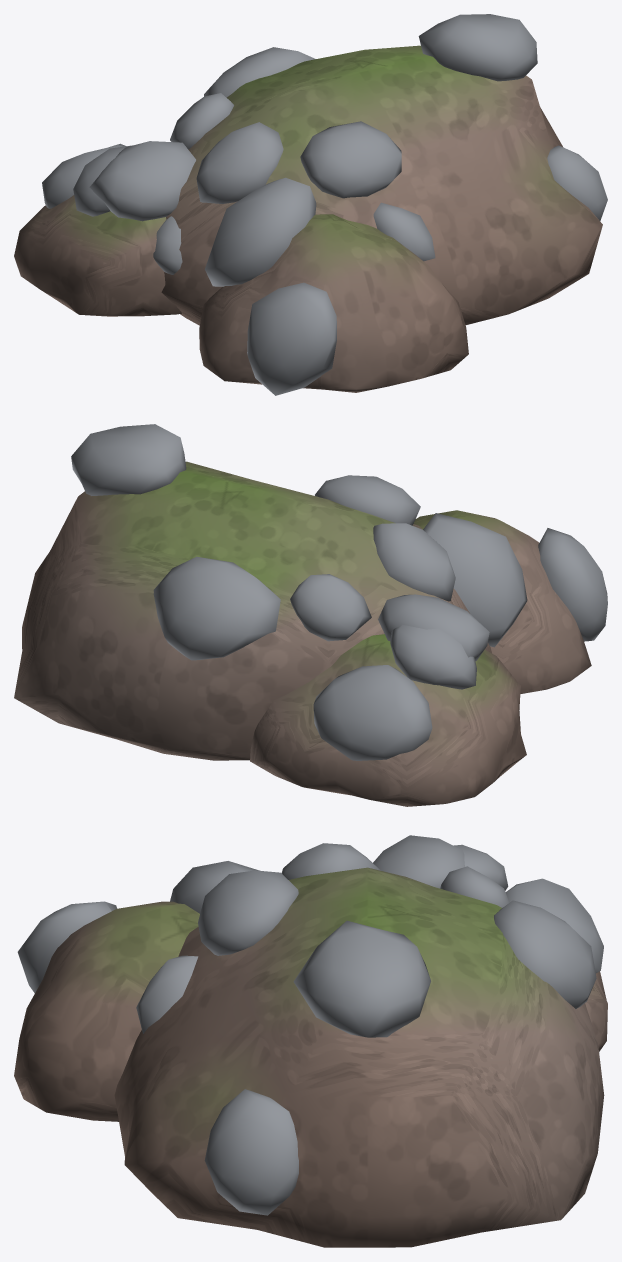
The model's file is ore_iron_cluster.glb.
3 views of the same model, one above another, from view 1: azimuth 30°, elevation 25°; view 2: azimuth 150°, elevation 25°; view 3: azimuth 270°, elevation 25° (orthographic). The views are drawn at different scales.
Parts seen in each view (by area): view 1: ore_iron_stone, ore_iron; view 2: ore_iron_stone, ore_iron; view 3: ore_iron_stone, ore_iron.
Part boxes in pixels (<box>): ore_iron_stone: <box>14,45,602,392</box>; ore_iron: <box>42,14,607,395</box>; ore_iron_stone: <box>14,461,591,806</box>; ore_iron: <box>71,424,607,760</box>; ore_iron_stone: <box>14,867,607,1247</box>; ore_iron: <box>17,835,603,1215</box>.
Bounding box in the file's own units: 1.92 × 0.8487 × 1.67.
Materials: 2 (1 with a texture image).
